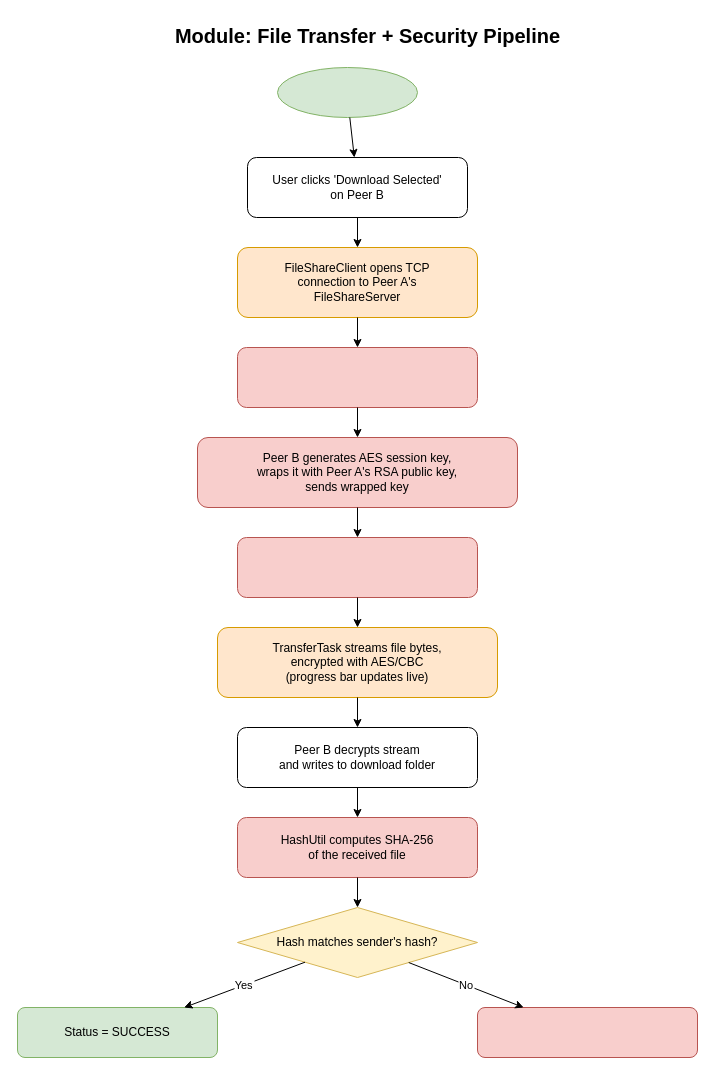
Image size: 715x1075. Some labels were removed from this diagram. The shapes that lost their labels are listed below. From the top down, each one's centre as x and y in pixels, then its label:
the point at 347,92: Start
the point at 357,377: RSA-2048 handshake: exchange public keys
the point at 357,567: Peer A unwraps AES key with its RSA private key
the point at 587,1032: Status = HASH_MISMATCH (file discarded/flagged)
